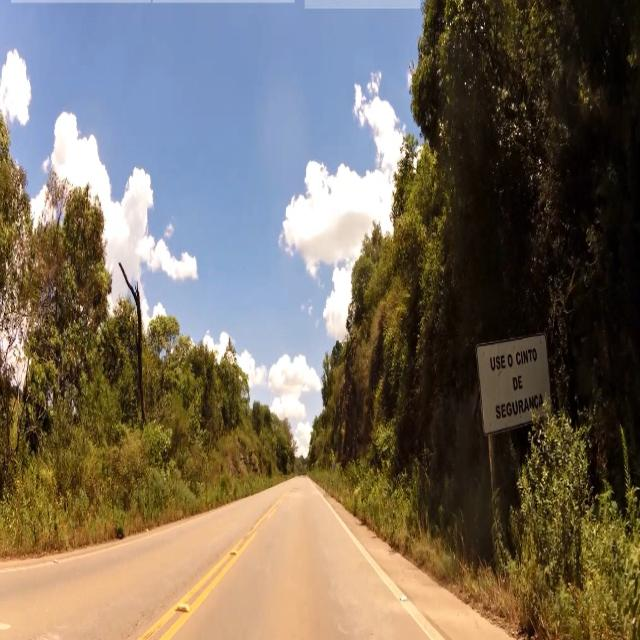E-5: (474, 337, 556, 428)
